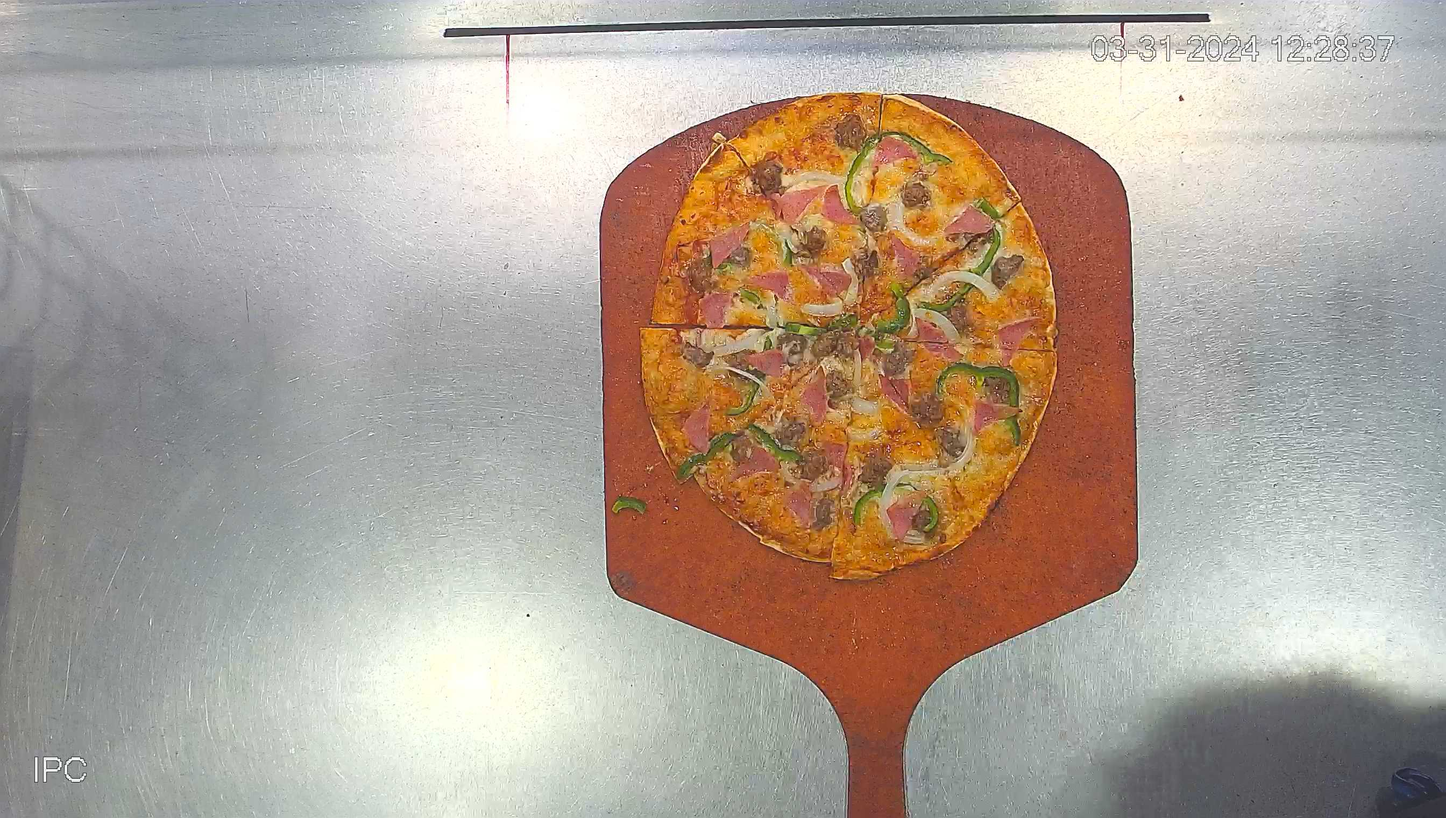hawaiian: (639, 91, 1057, 582)
